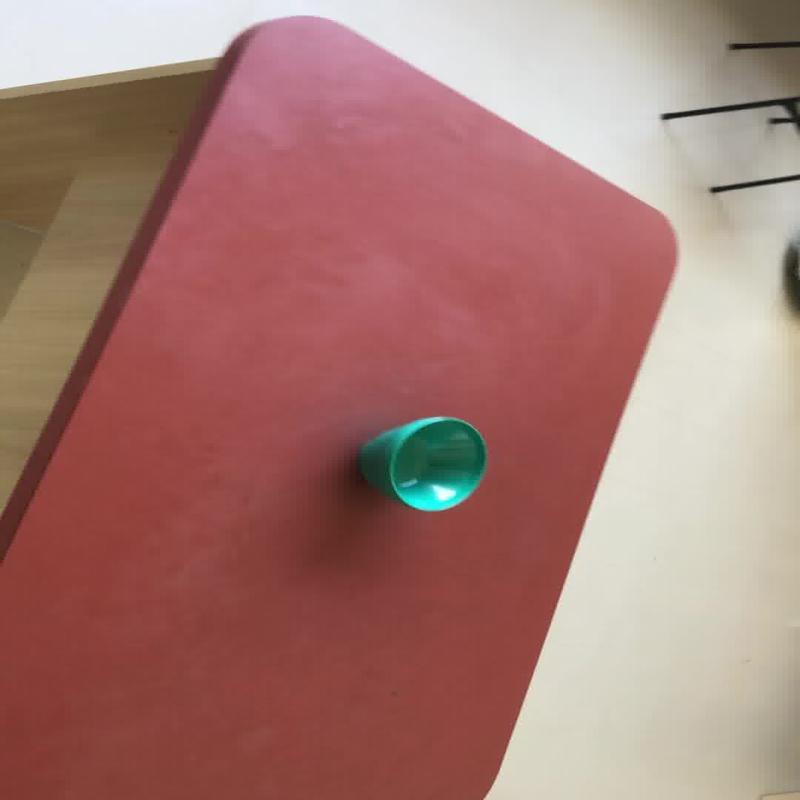bowl: (0, 12, 680, 798), (356, 415, 487, 512)
